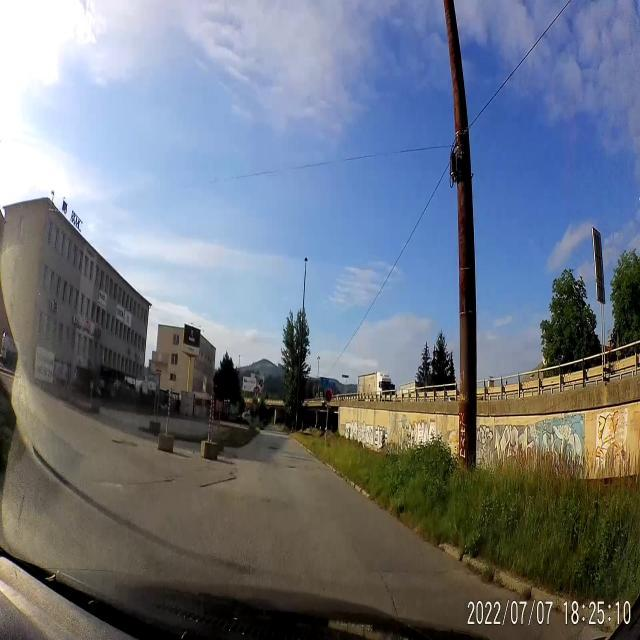Pothole: (286, 463, 297, 472), (267, 444, 279, 452)
